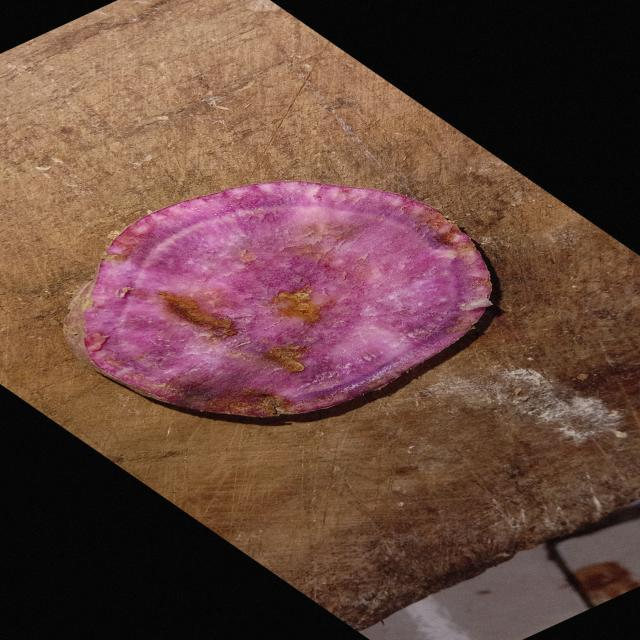Sick Sweet Potato_Tuber Rot: (64, 181, 491, 418)
